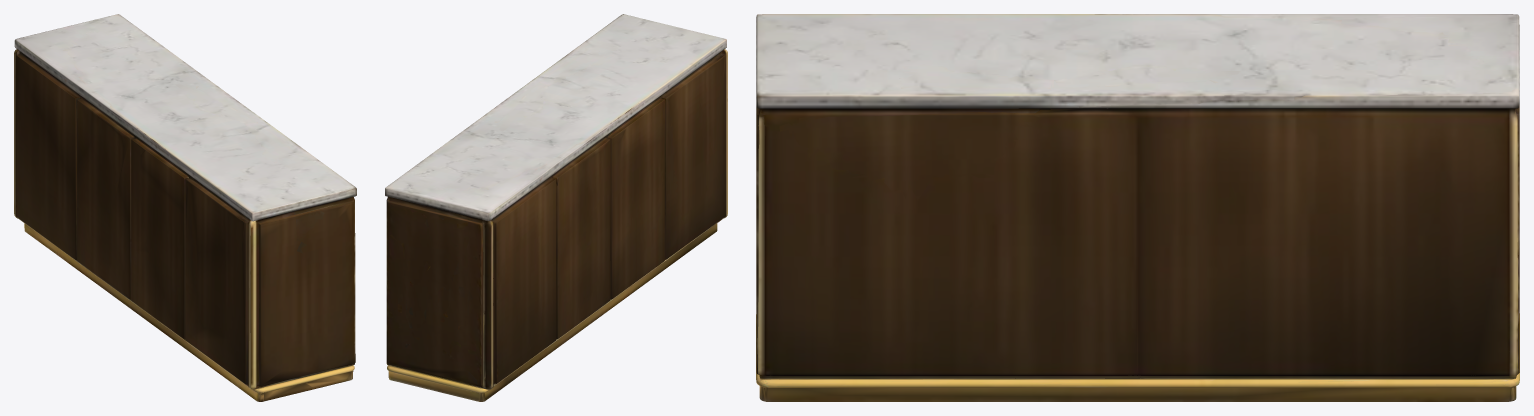
The model's file is credenza.glb.
The picture shows the model from 3 angles, left to right: view 1: azimuth 30°, elevation 25°; view 2: azimuth 150°, elevation 25°; view 3: azimuth 270°, elevation 25°; orthographic projection. The views are drawn at different scales.
Parts seen in each view (by area): view 1: node_0; view 2: node_0; view 3: node_0.
Boxes of the visible parts, x1=… form: node_0: x1=14, y1=14, x2=356, y2=401; node_0: x1=385, y1=14, x2=727, y2=401; node_0: x1=756, y1=14, x2=1519, y2=401.
Size of the model in its own units: 0.2798 by 0.4759 by 1.07.
1 material, 1 textured.
